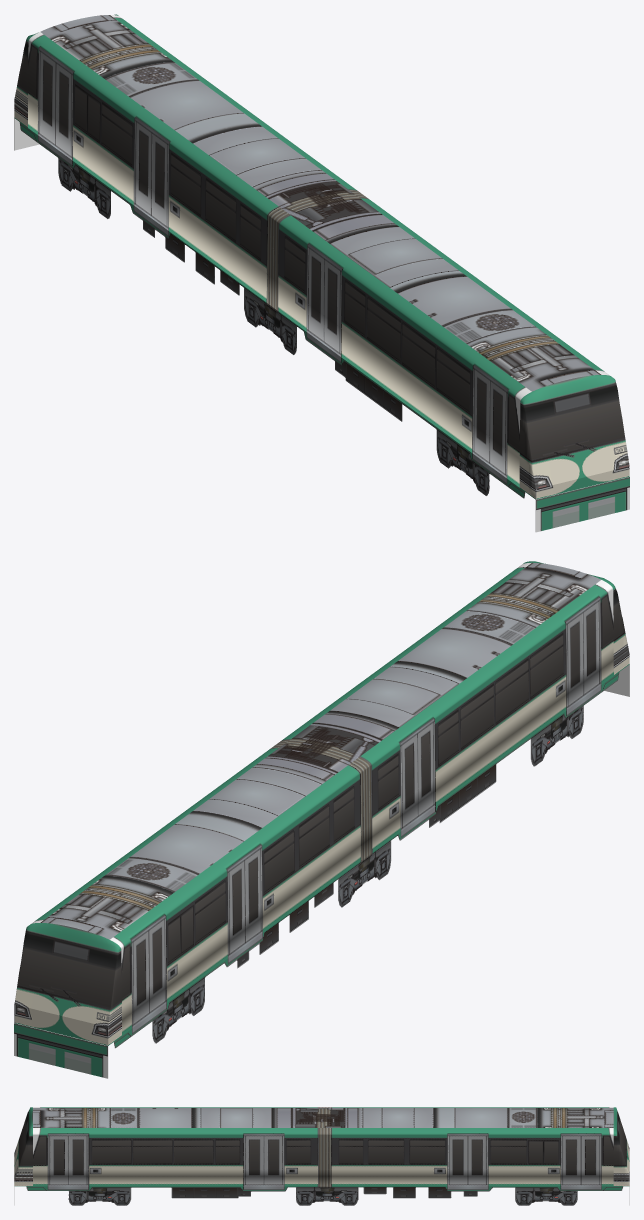
File: car1.glb
3 renders of one model, top to bottom at view 1: azimuth 30°, elevation 25°; view 2: azimuth 150°, elevation 25°; view 3: azimuth 270°, elevation 25°, orthographic. The views are drawn at different scales.
Parts seen in each view (by area): view 1: tokyu300-car1; view 2: tokyu300-car1; view 3: tokyu300-car1.
Boxes of the visible parts, x1=… form: tokyu300-car1: x1=14, y1=14, x2=629, y2=532; tokyu300-car1: x1=14, y1=561, x2=629, y2=1078; tokyu300-car1: x1=14, y1=1107, x2=629, y2=1205.
Size of the model in its own units: 2.5 by 3.28 by 24.01.
8 materials, 7 textured.
